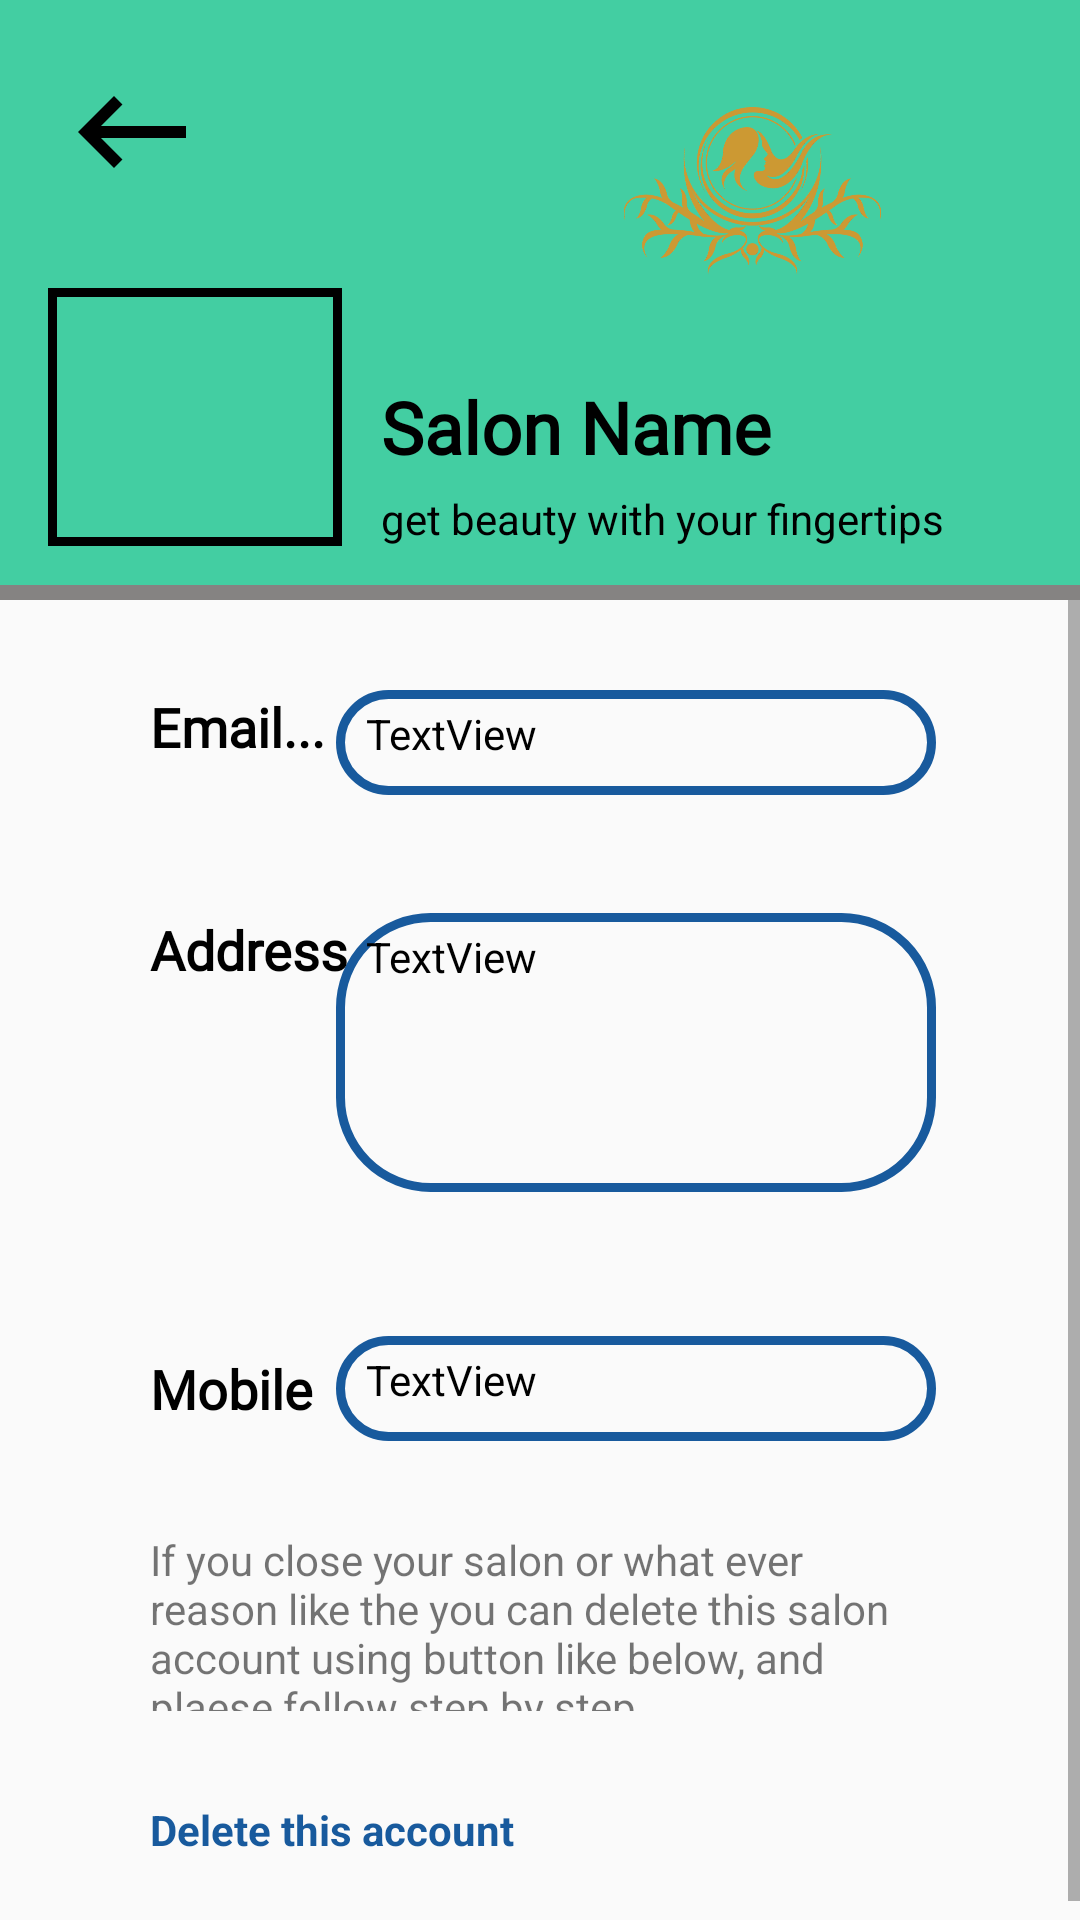

Named icons in this screenshot (1080px x 1920px) and their bounding boxes, (x1, y1, x2, y2):
back: (78, 96, 186, 168)
